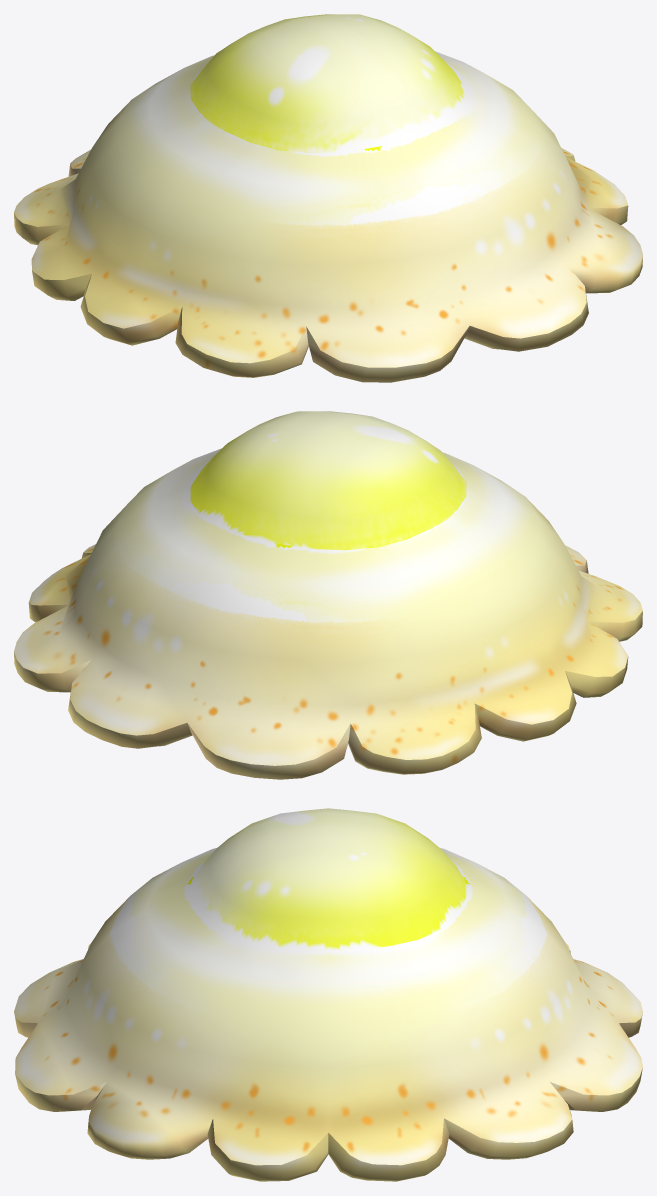
Rendered from 神奇科普站-水母-荷包蛋水母2.FBX.
3 views of the same model, one above another, from view 1: azimuth 30°, elevation 25°; view 2: azimuth 150°, elevation 25°; view 3: azimuth 270°, elevation 25° (orthographic). The views are drawn at different scales.
Visible parts, largest first — view 1: 神奇科普站-水母-荷包蛋水母2; view 2: 神奇科普站-水母-荷包蛋水母2; view 3: 神奇科普站-水母-荷包蛋水母2.
Part boxes in pixels (x1=…): 神奇科普站-水母-荷包蛋水母2: x1=14, y1=14, x2=642, y2=382; 神奇科普站-水母-荷包蛋水母2: x1=14, y1=411, x2=642, y2=779; 神奇科普站-水母-荷包蛋水母2: x1=14, y1=808, x2=642, y2=1181.
Bounding box in the file's own units: 106 × 43.43 × 107.
1 material, 1 textured.
